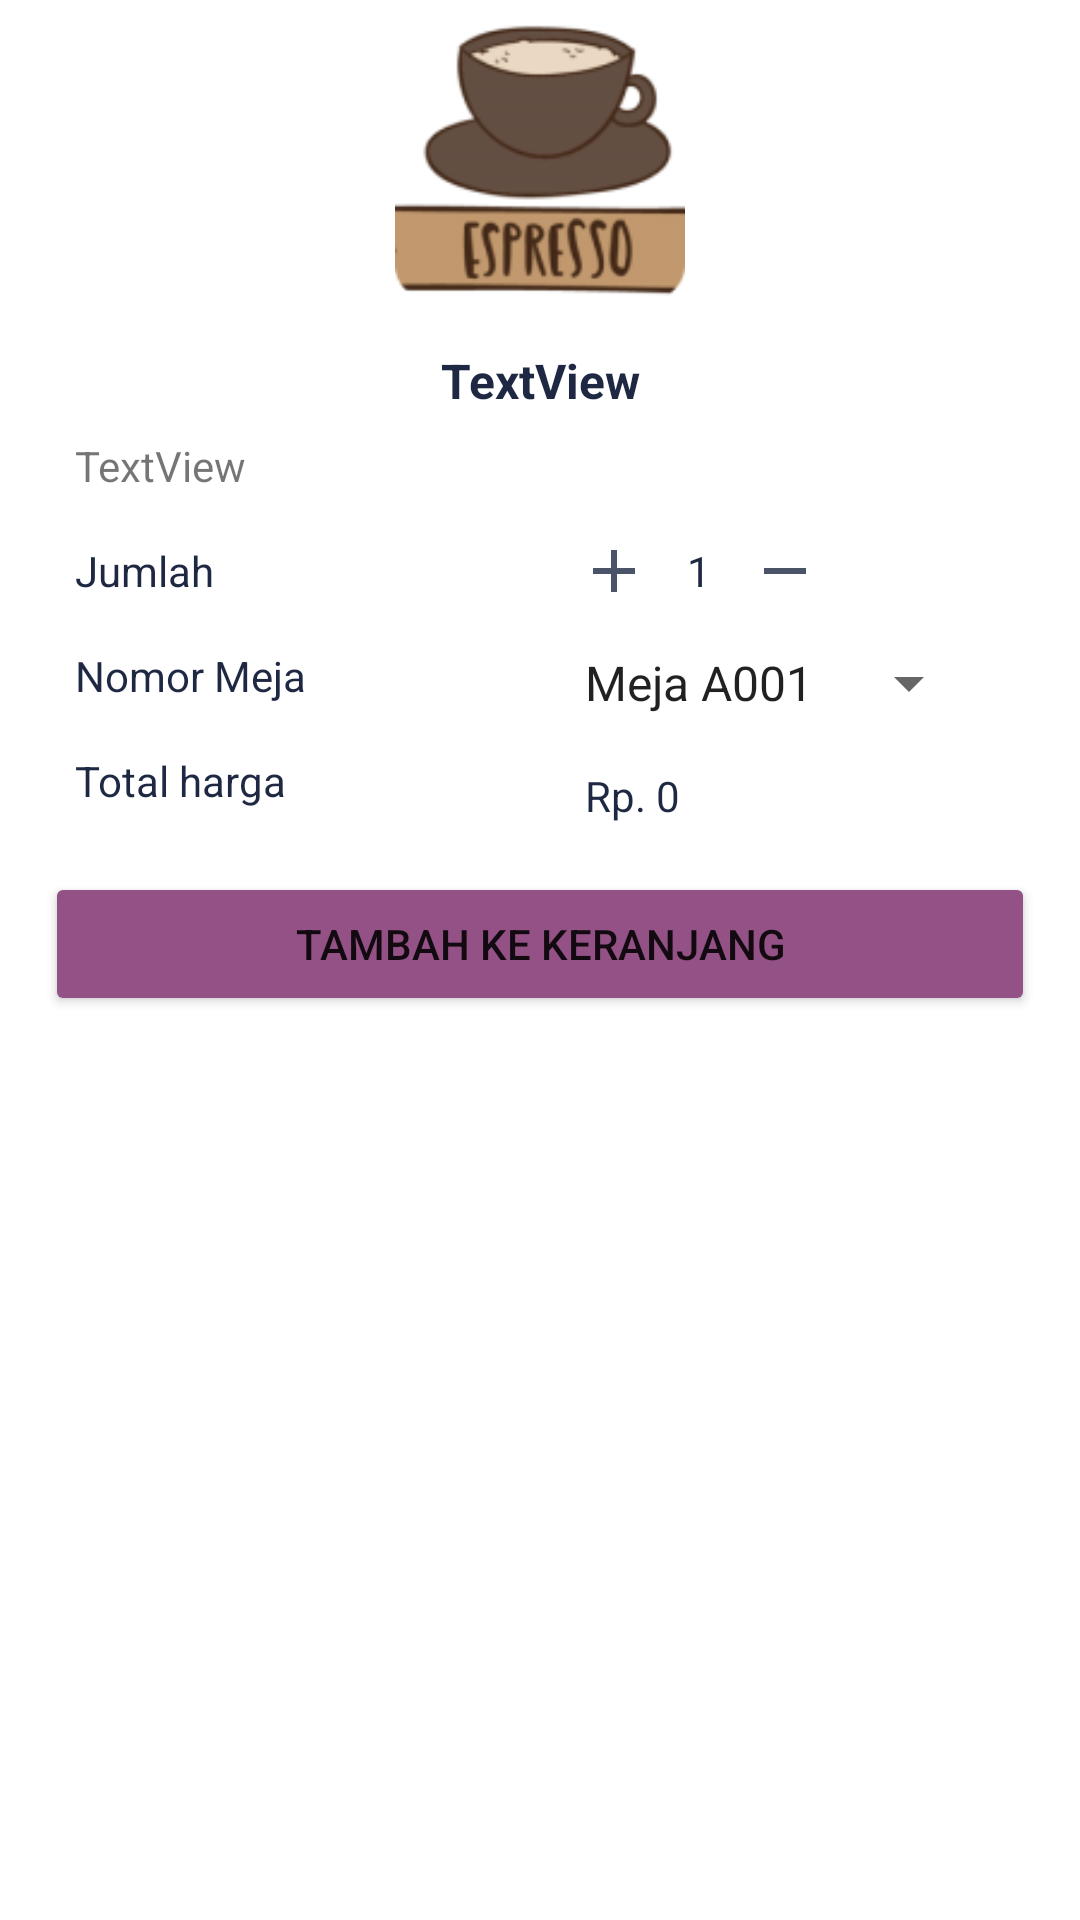

Screen size 1080×1920. Icon name, then its center in pixels as [x,y]:
add: [614,571]
